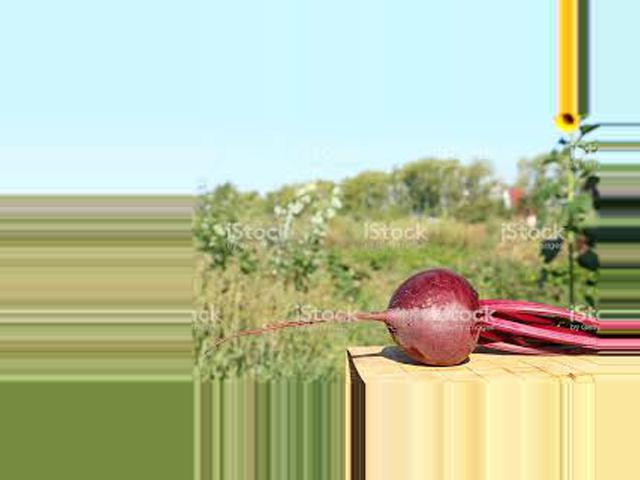beet: (205, 270, 602, 366)
